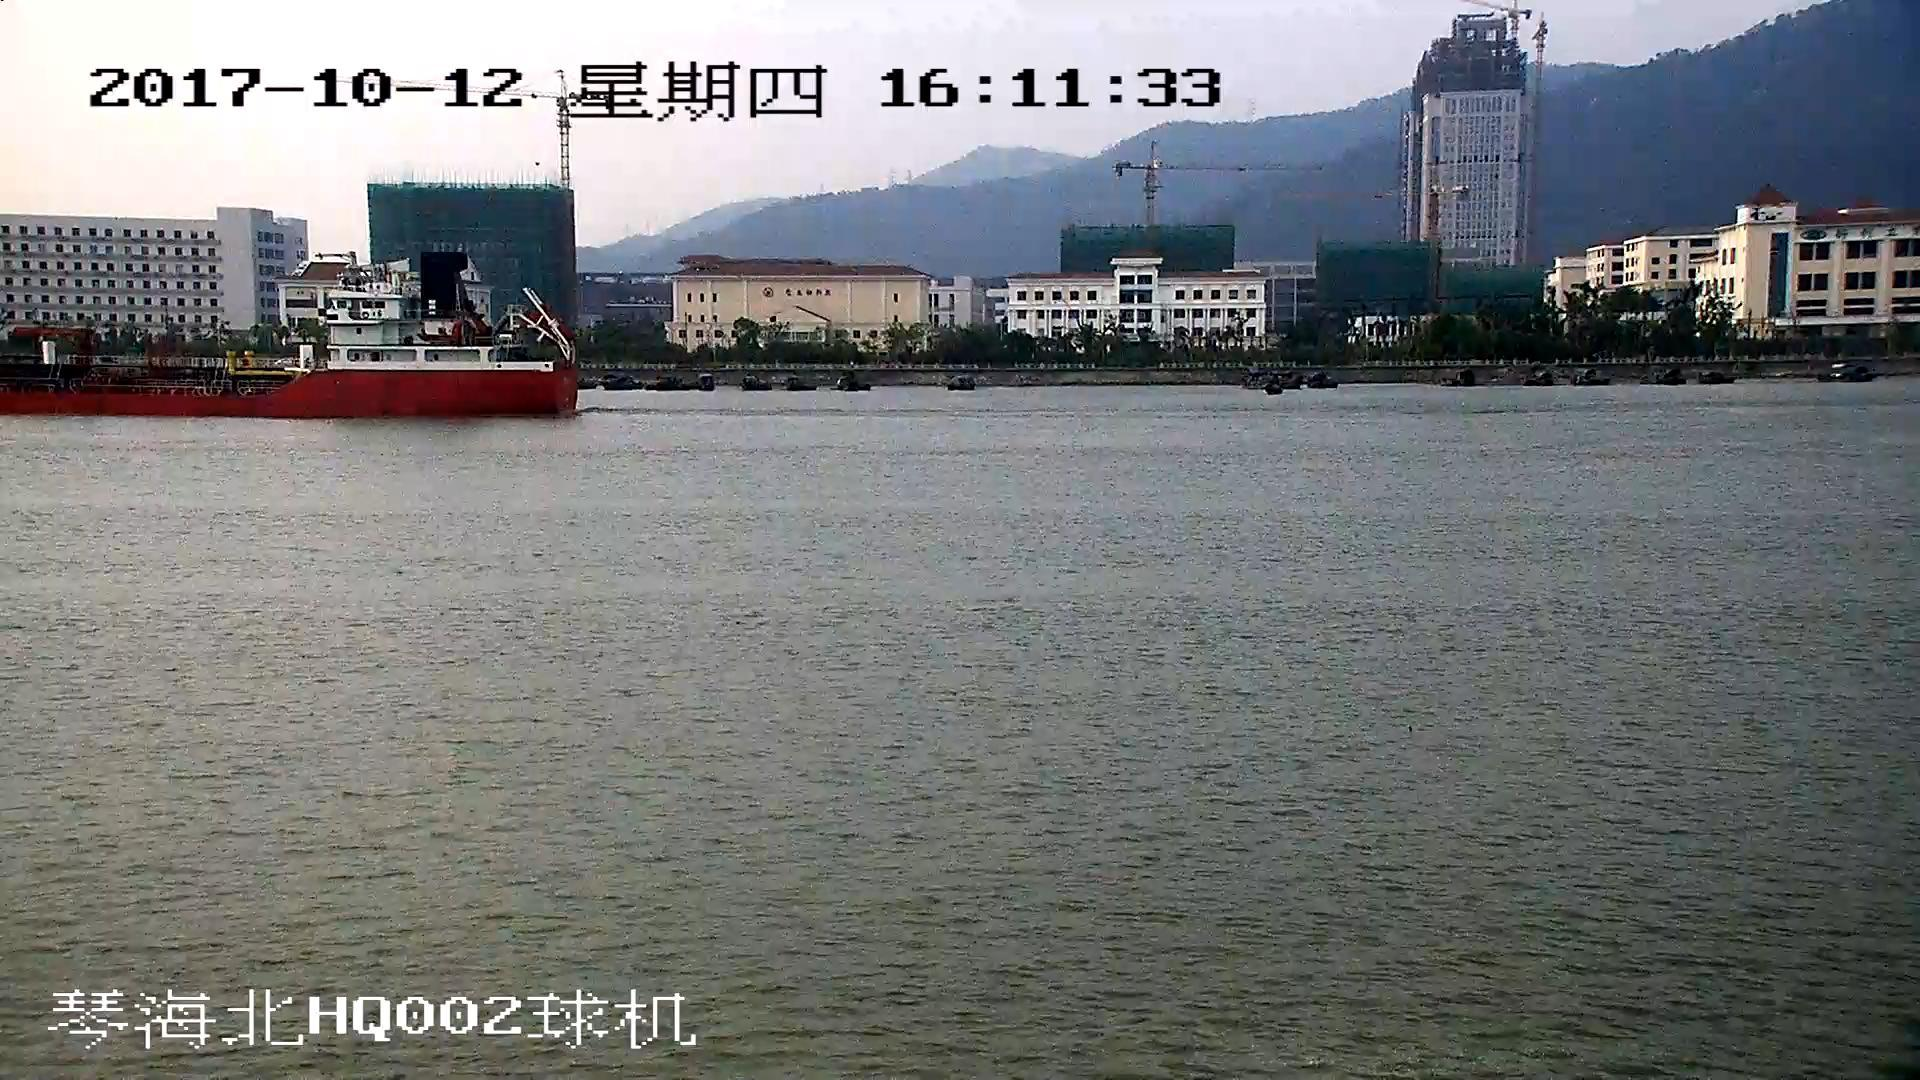Ship: (3, 251, 579, 419)
